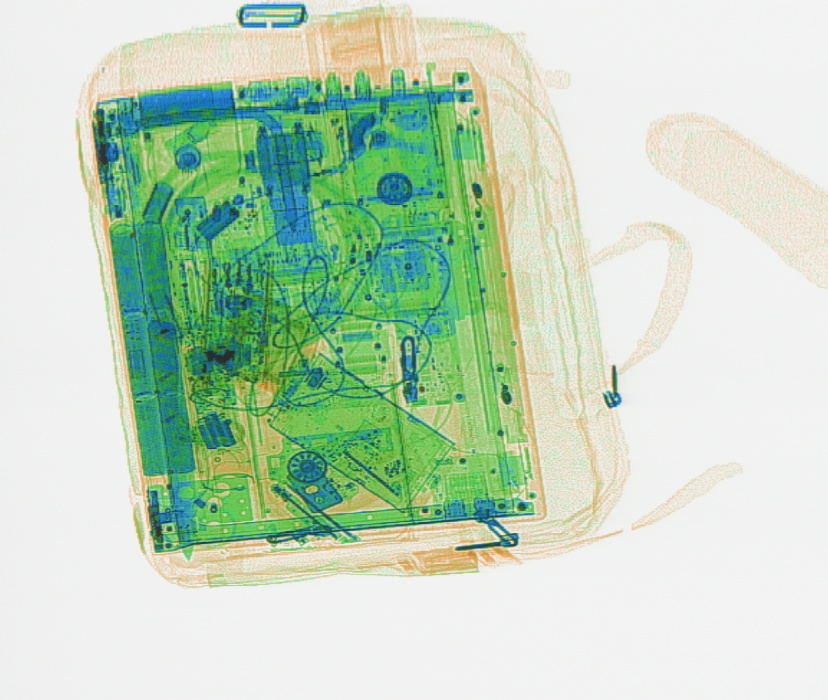knife: (144, 316, 198, 560)
